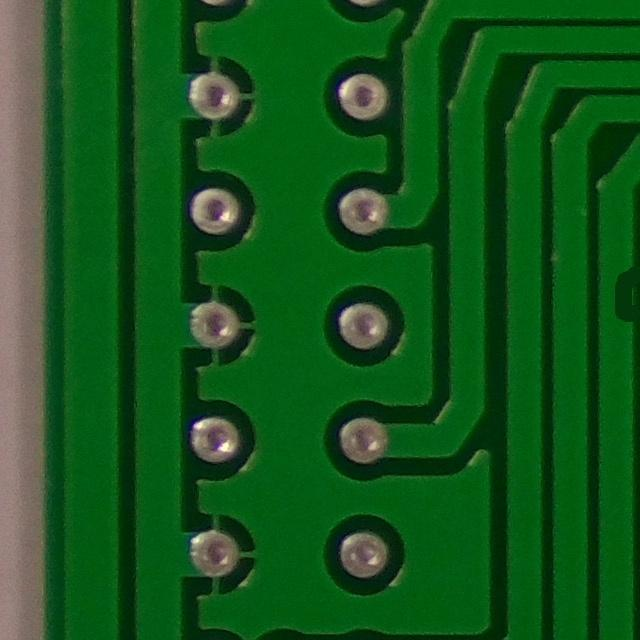mouse_bite: (593, 255, 640, 335)
